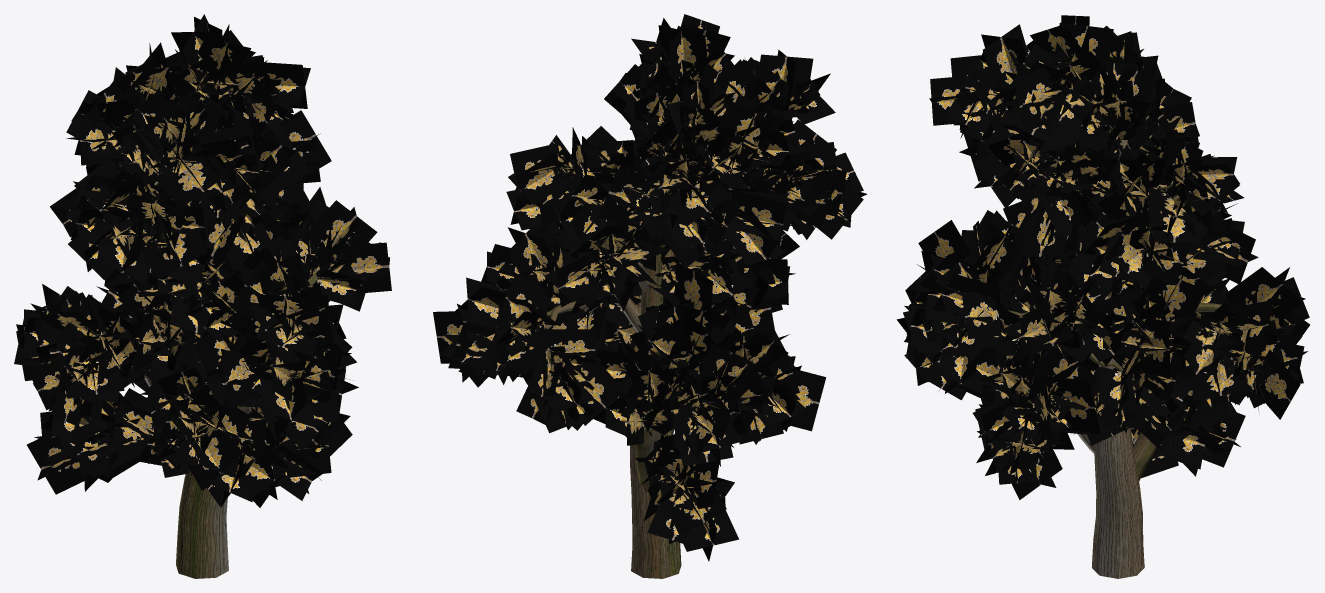
Rendered from eztree-hophornbeam-understory-b.glb.
3 renders of one model, left to right at view 1: azimuth 30°, elevation 25°; view 2: azimuth 150°, elevation 25°; view 3: azimuth 270°, elevation 25°, orthographic. The views are drawn at different scales.
Visible parts, largest first — view 1: eztree-hophornbeam-understory-b; view 2: eztree-hophornbeam-understory-b; view 3: eztree-hophornbeam-understory-b.
Part boxes in pixels (<box>): eztree-hophornbeam-understory-b: <box>14,14,391,578</box>; eztree-hophornbeam-understory-b: <box>433,14,867,578</box>; eztree-hophornbeam-understory-b: <box>896,15,1309,578</box>.
Size of the model in its own units: 21.52 by 34.13 by 23.49.
Materials: 2 (2 with a texture image).
